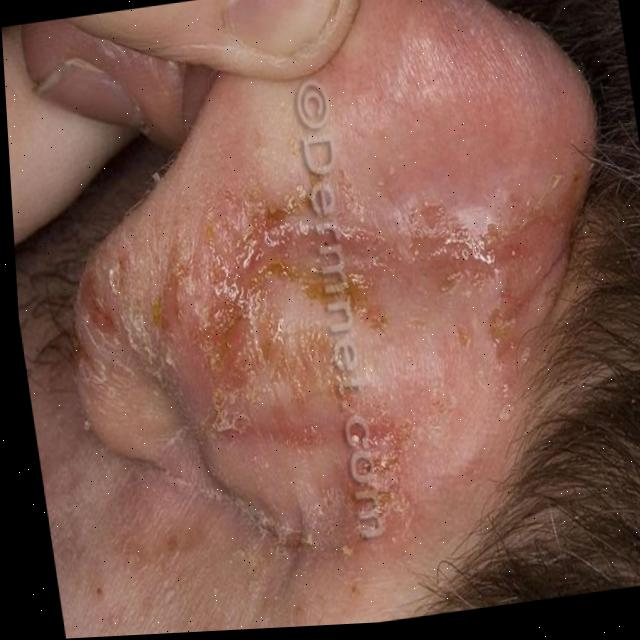Eczema: (61, 160, 540, 598)
